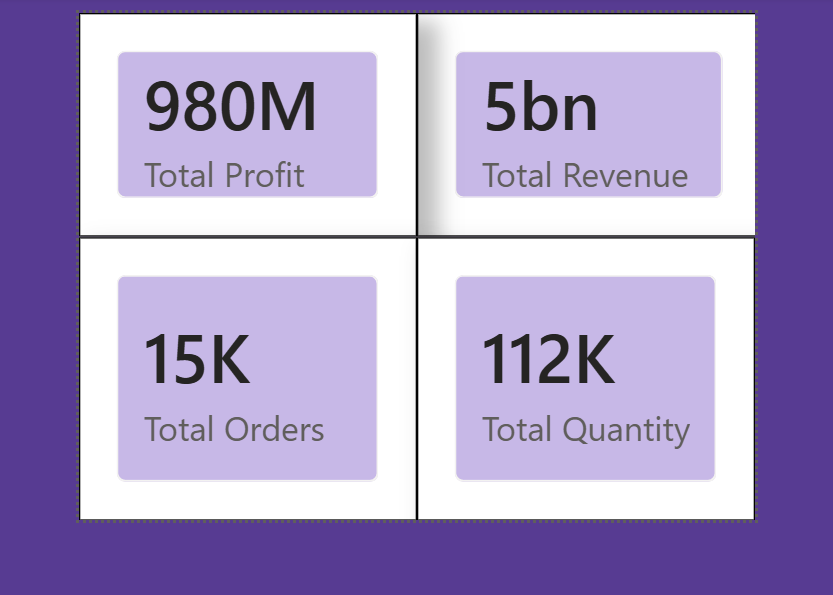

What the dashboard file says about the page in this screenshot:
{"tool":"powerbi","page":{"name":"Tool Tip","canvas":[320,240],"ordinal":2},"visuals":[{"type":"cardVisual","fields":{"Data":["Fact Sales.Total Revenue"]},"box":[160,0,163,106],"z":0},{"type":"cardVisual","fields":{"Data":["Fact Sales.Total Profit"]},"box":[0,0,160,106],"z":1000},{"type":"cardVisual","fields":{"Data":["Fact Sales.Total Orders"]},"box":[0,106,160,134],"z":2000},{"type":"cardVisual","fields":{"Data":["Fact Sales.Total Quantity"]},"box":[160,106,160,134],"z":3000}]}

Visuals, with their boxes on the page's 320x240 design canvas (x1, y1, x2, y2). These are canvas units, not pixel positions in the 833x595 screenshot, which may show the page scaled, cropped or inside an application window:
cardVisual - Fact Sales.Total Revenue: box=[160, 0, 323, 106]
cardVisual - Fact Sales.Total Profit: box=[0, 0, 160, 106]
cardVisual - Fact Sales.Total Orders: box=[0, 106, 160, 240]
cardVisual - Fact Sales.Total Quantity: box=[160, 106, 320, 240]
